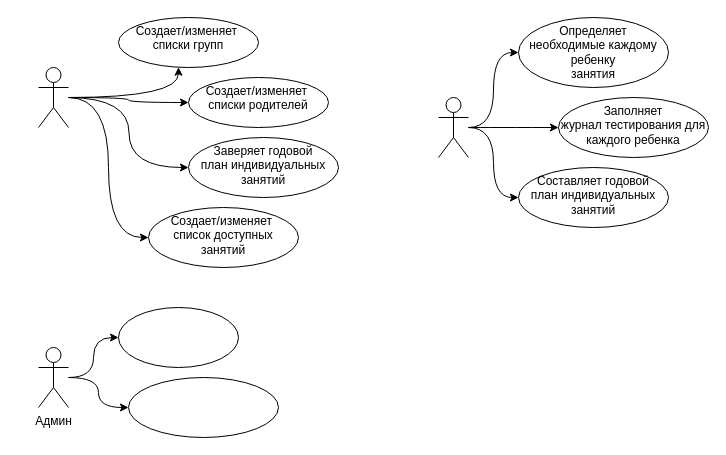
Image size: 726x455. Some labels were removed from this diagram. The box of each missing label's shape, as (x1, y1, x2, y2) in pixels:
Воспитатель: (438, 96, 468, 158)
Заведующий: (38, 66, 68, 128)
Создает/удаляет/изменяет учетные записи пользователей: (128, 376, 278, 438)
Управляет правами пользователей: (118, 306, 238, 368)
